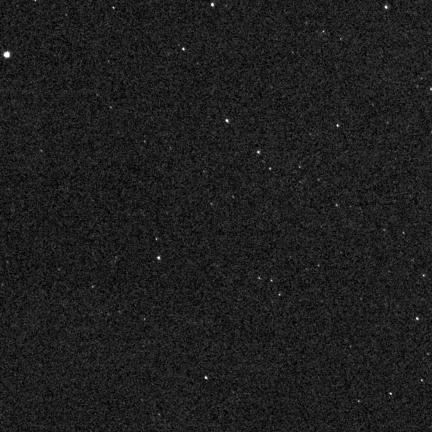blob: (4, 52, 10, 58), (205, 376, 209, 380), (157, 256, 160, 260), (226, 119, 229, 123), (211, 3, 214, 7), (257, 151, 260, 154)
